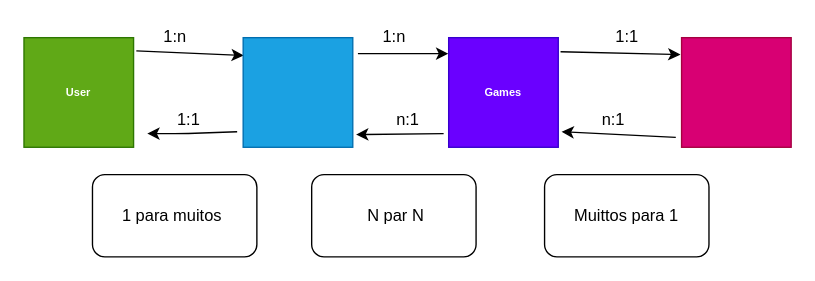
This 815x281 diagram has some shape labels left out. The box of each missing label's shape, as (x1, y1, x2, y2) in pixels:
Gener: (680, 36, 791, 147)
Profile: (242, 36, 353, 147)
